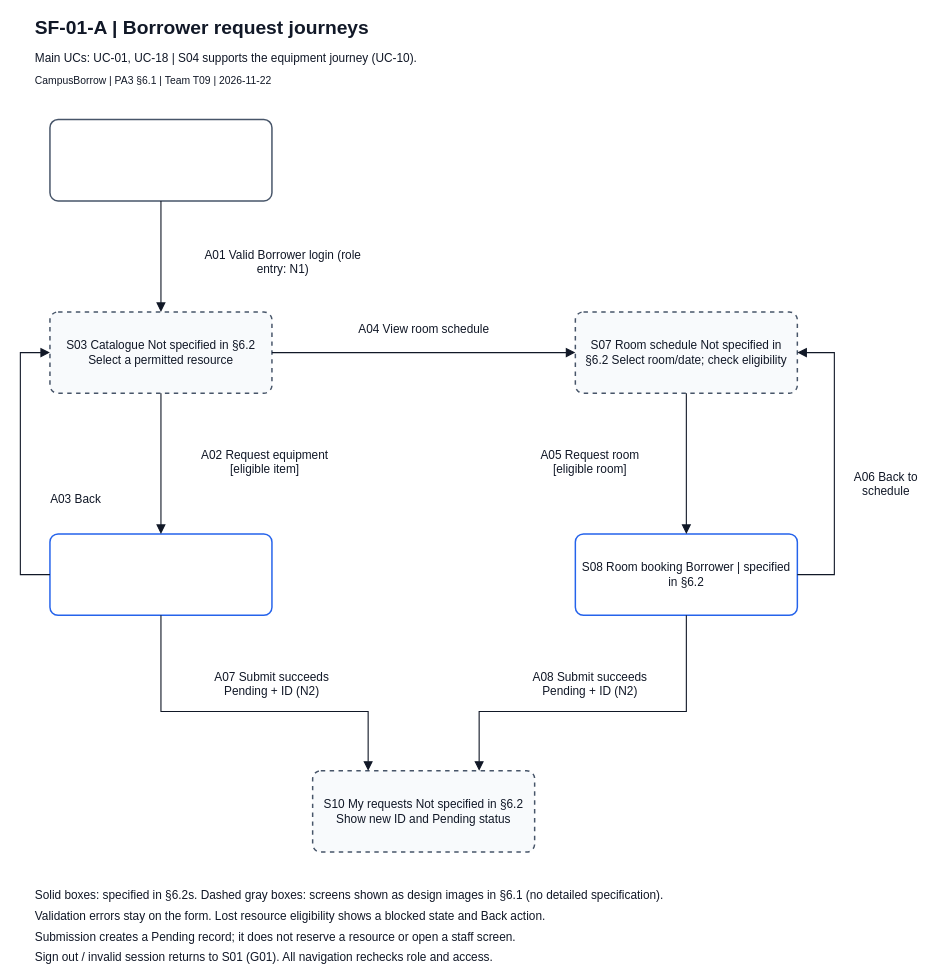
Some shapes in this 939 by 978 pixel diagram are drawn without their labels. Each missing label, with the centre of its shape:
S01 Sign in All roles | Borrower path: (160,159)
S04 Equipment request Borrower | specified in §6.2: (160,574)
